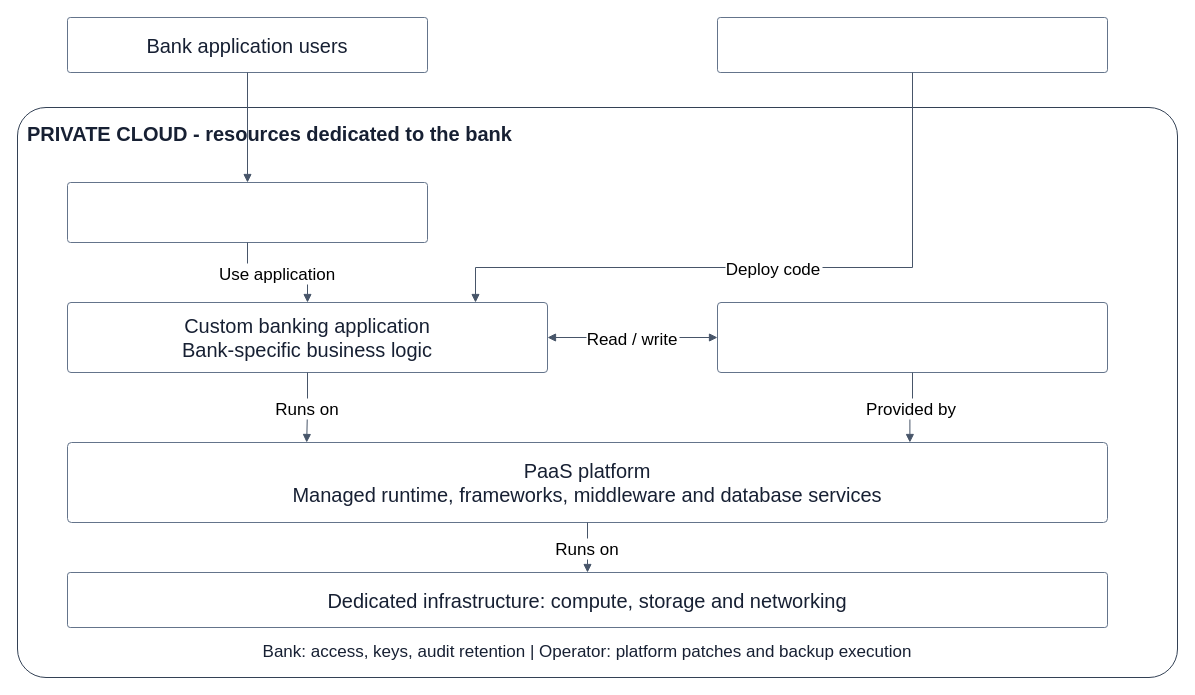
The diagram is 1195 pixels wide and 695 high, and some of its shapes have lost their labels. The shapes that lost their labels are listed below. From the top down, each one's centre as x and y in pixels, then its label:
At (x=912, y=44): "Bank development team".
At (x=247, y=212): "Authentication and access control".
At (x=912, y=337): "Banking data Controlled database access".
